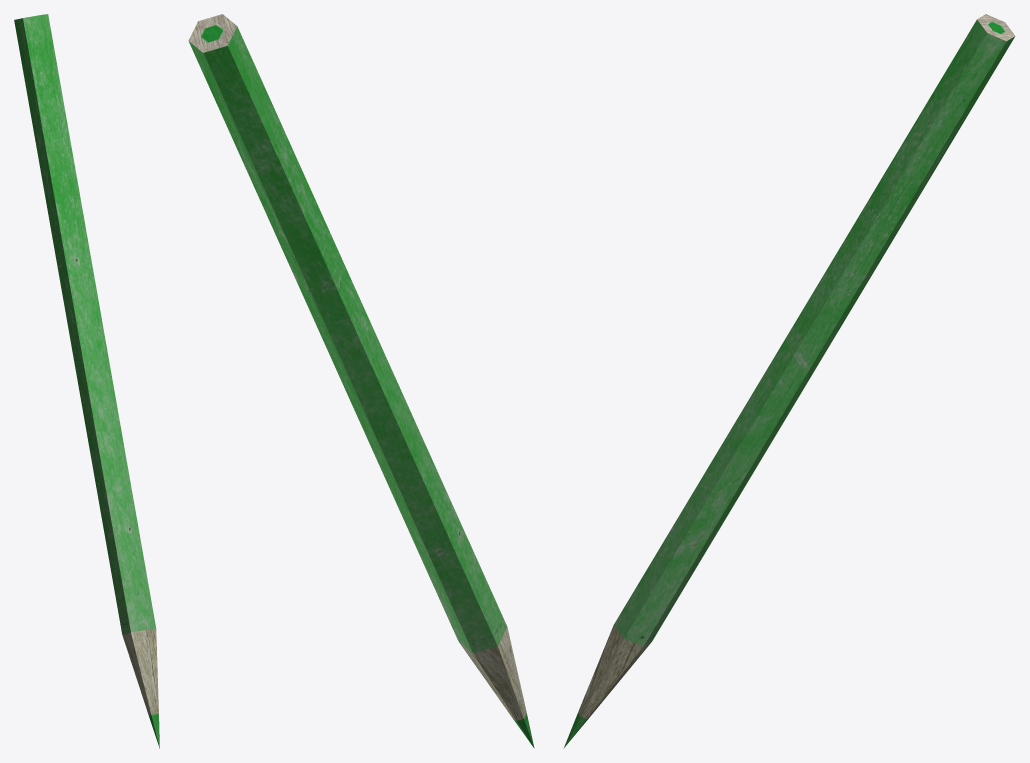
File: LapizVerde.DAE
3 renders of one model, left to right at view 1: azimuth 30°, elevation 25°; view 2: azimuth 150°, elevation 25°; view 3: azimuth 270°, elevation 25°, orthographic. The views are drawn at different scales.
Parts seen in each view (by area): view 1: Box_Lapiz03; view 2: Box_Lapiz03; view 3: Box_Lapiz03.
Boxes of the visible parts, x1,y1,x2,y2 form: Box_Lapiz03: (14,14,159,748); Box_Lapiz03: (188,14,534,748); Box_Lapiz03: (563,14,1015,748).
Size of the model in its own units: 17.62 by 86.48 by 160.
Materials: 1 (1 with a texture image).
